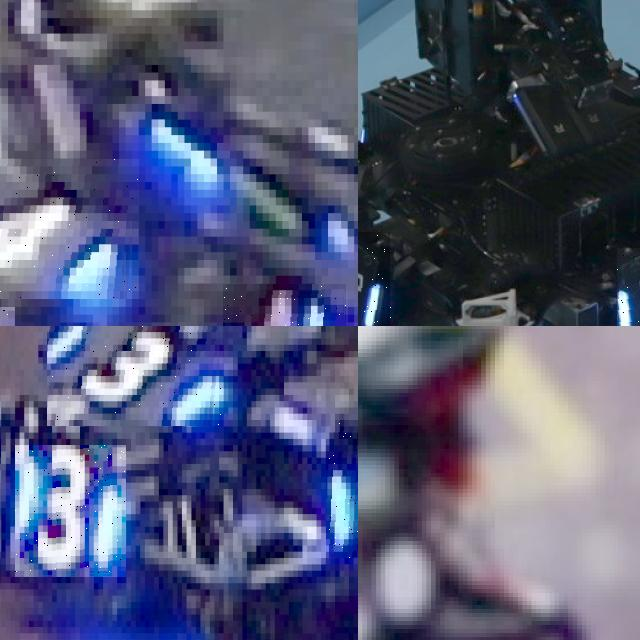B3: (47, 326, 223, 426), (15, 445, 126, 577), (325, 420, 358, 558)
B4: (0, 158, 138, 299), (223, 283, 347, 326)
Bs: (358, 231, 391, 326)
